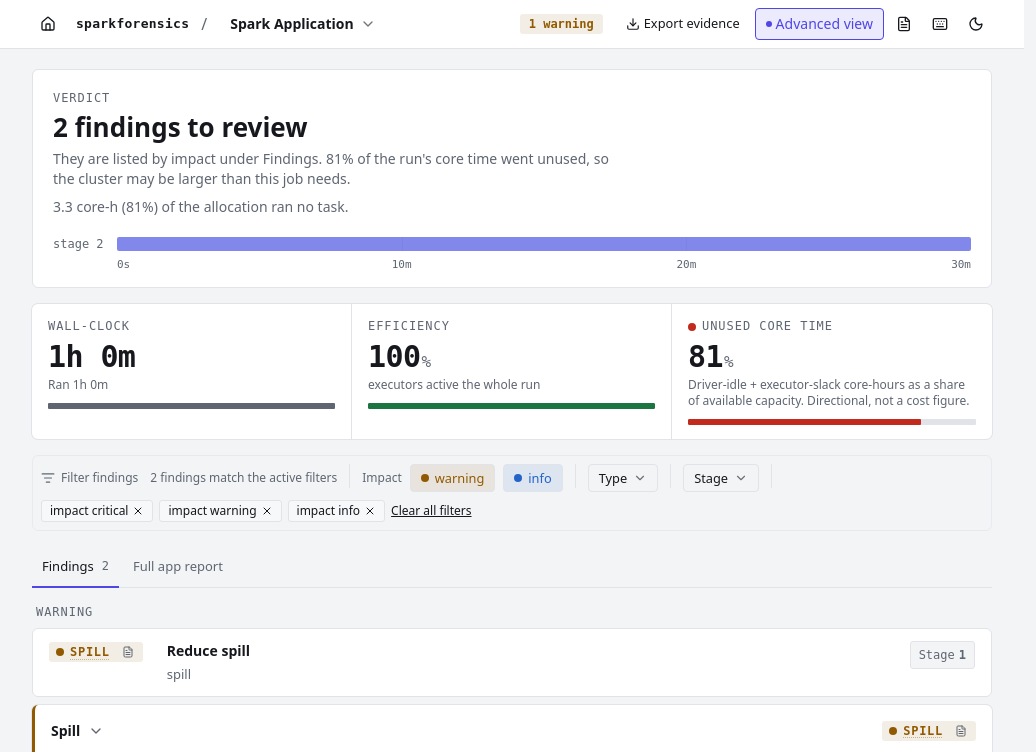
Test: the Findings tab shows every REGISTRY widget with findings, while Full app report starts unselected
The image size is (1036, 752).
Check: the heading "Spill" is shown, box [51,721,80,741]
Check: the heading "Stage Summary" is not shown
Click the tab "Full app report": (178, 567) [123,547,233,588]
(page scrolled)
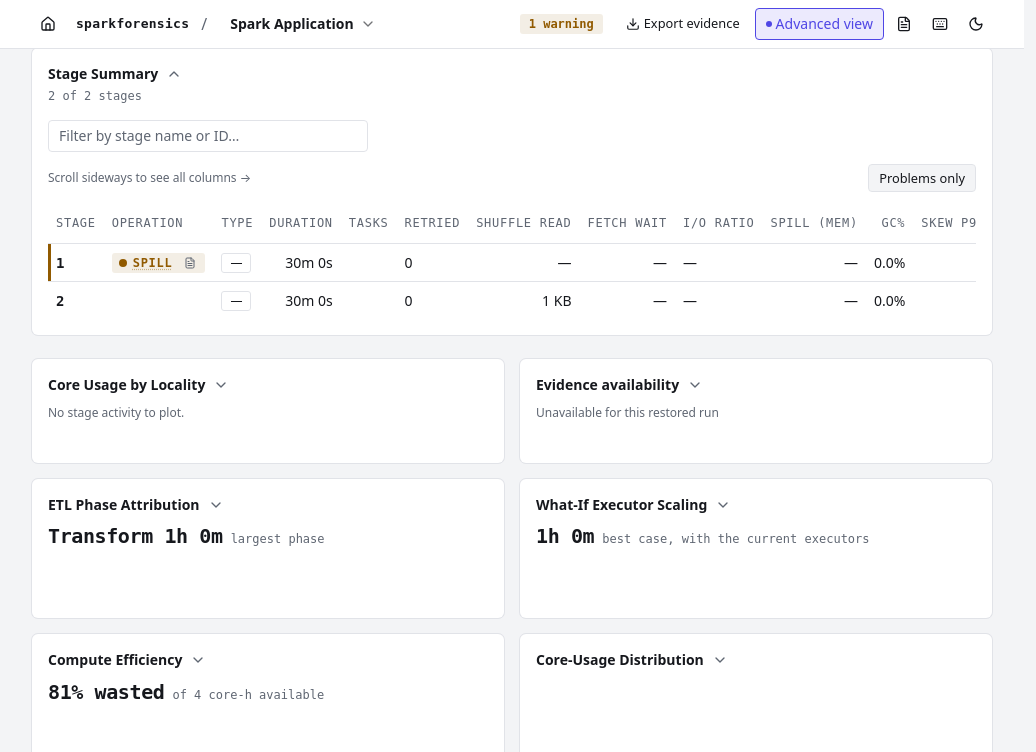
Check: the heading "Stage Summary" is shown, box [48,64,158,84]
Check: the heading "Core Usage by Locality" is shown, box [48,375,205,394]
